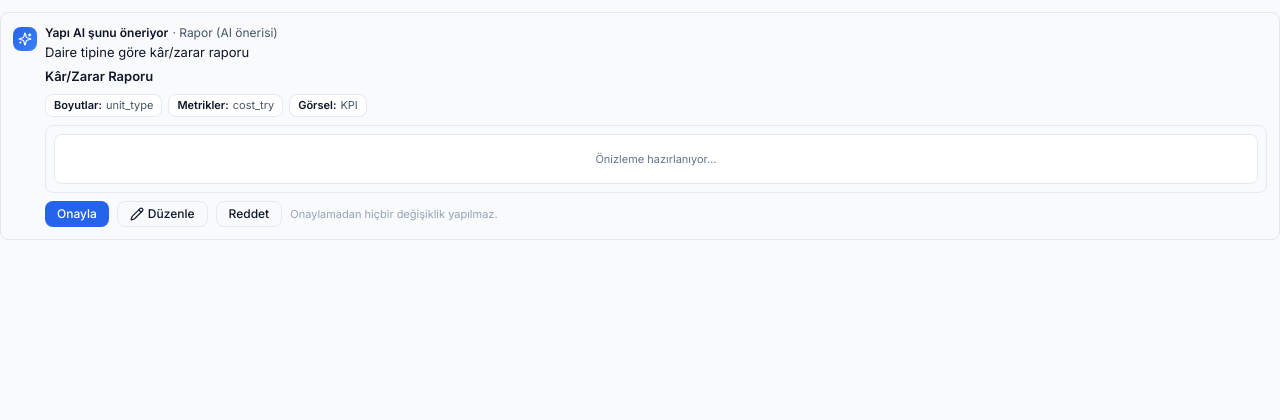
Test: ProposedActionCard — report authoring (CR-035) › Reddet posts the reject reason to the approvals endpoint
# Open the reason form (first Reddet), type a reason, submit (second Reddet).
Click the button "Reddet" at (249, 214), box [216, 201, 282, 227]
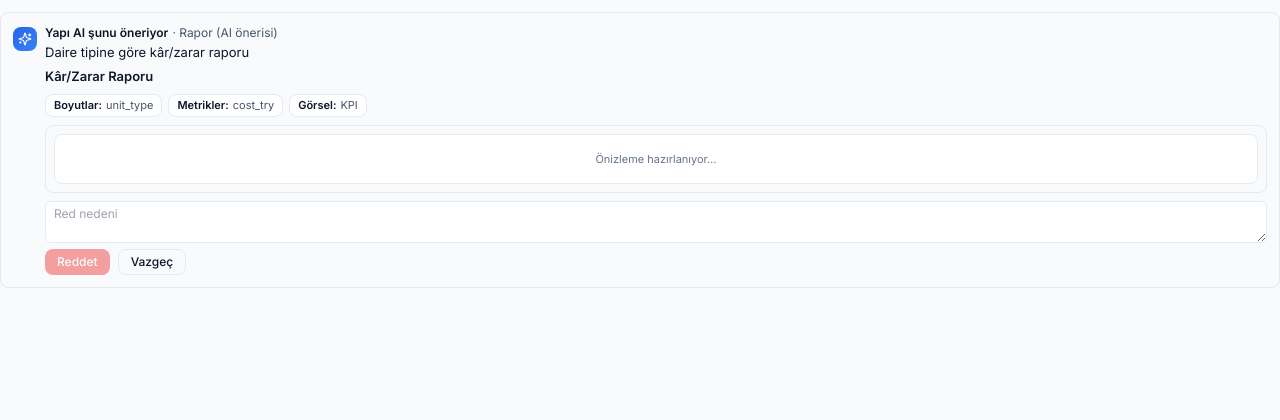
Type "Uygun değil" into the text box with placeholder "Red nedeni" at (656, 222), box [45, 201, 1267, 243]
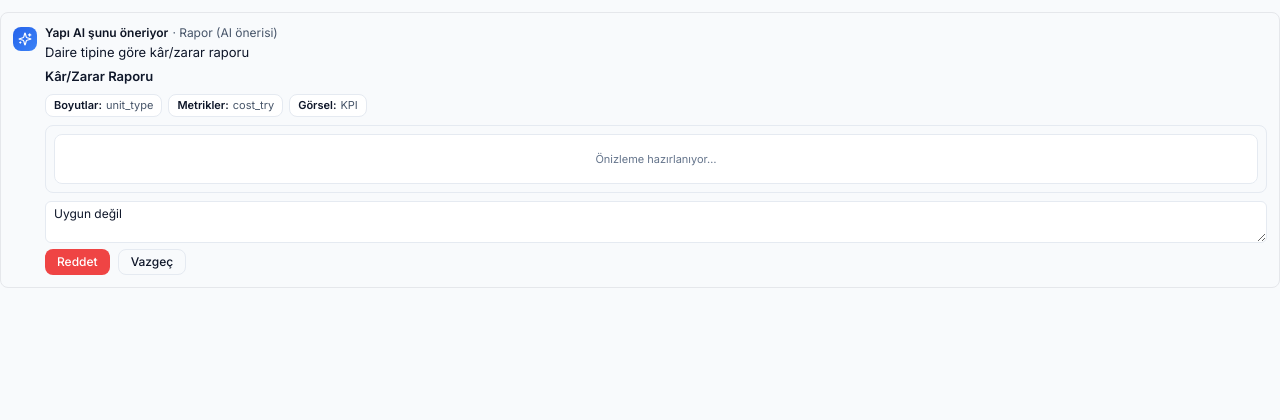
Click the button "Reddet" at (77, 262), box [45, 249, 110, 275]
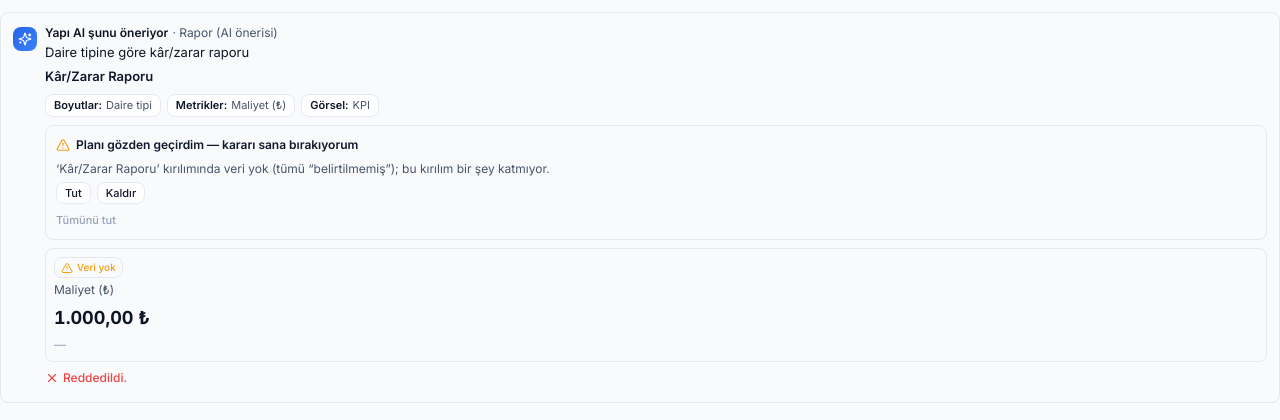
Result: the text "Reddedildi." is shown at [45, 370, 127, 386]
